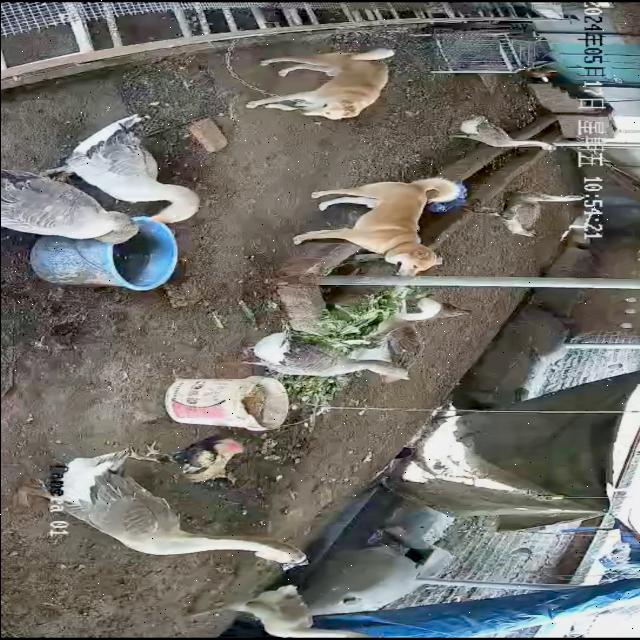dog: (292, 178, 461, 278), (245, 47, 397, 121)
